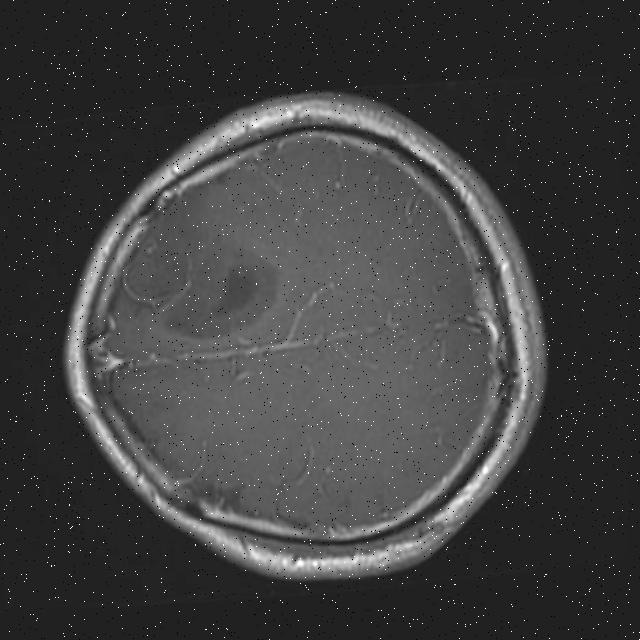Glioma: (120, 216, 287, 348)
